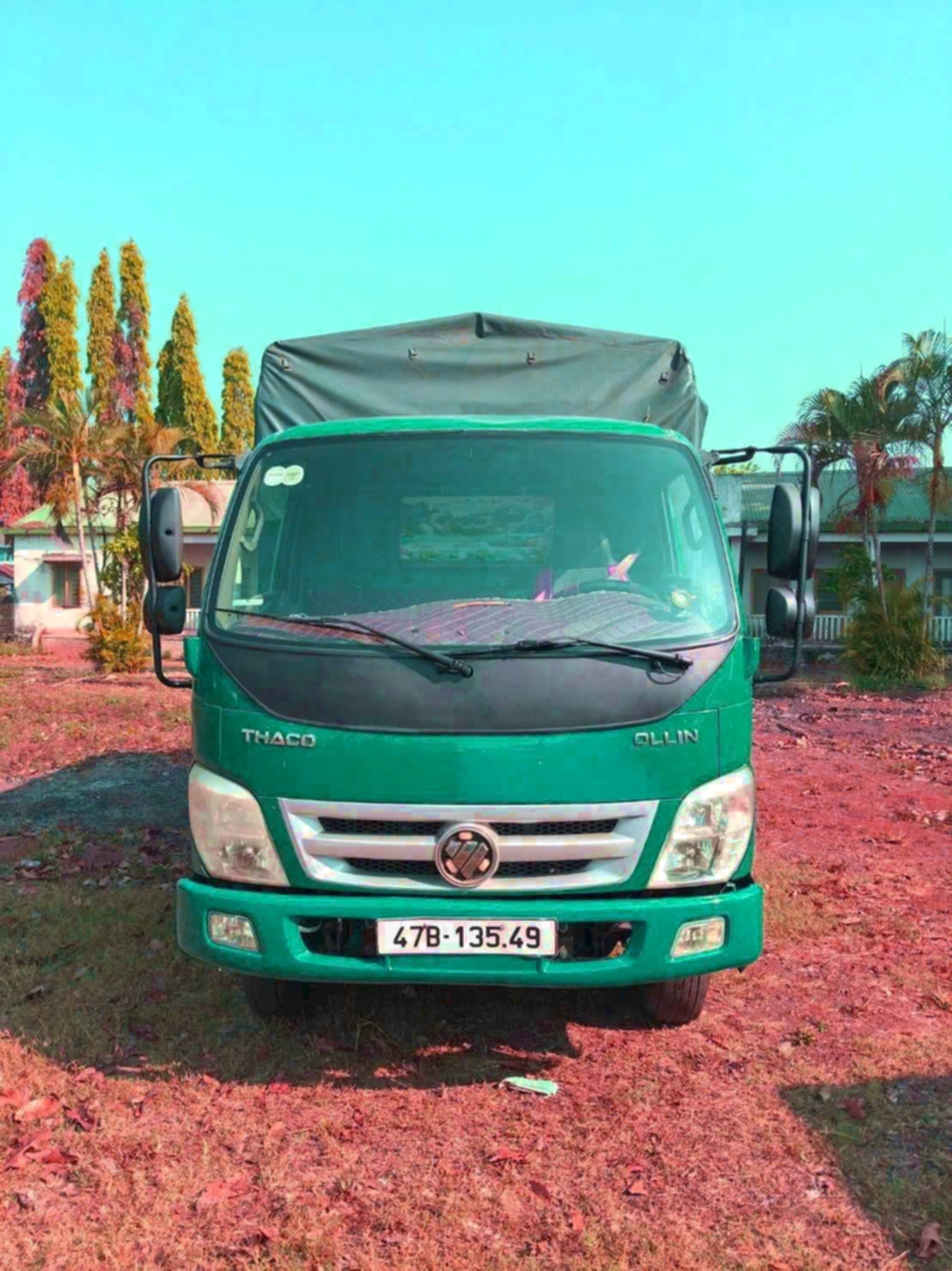Bien-so: (336, 918, 511, 978)
